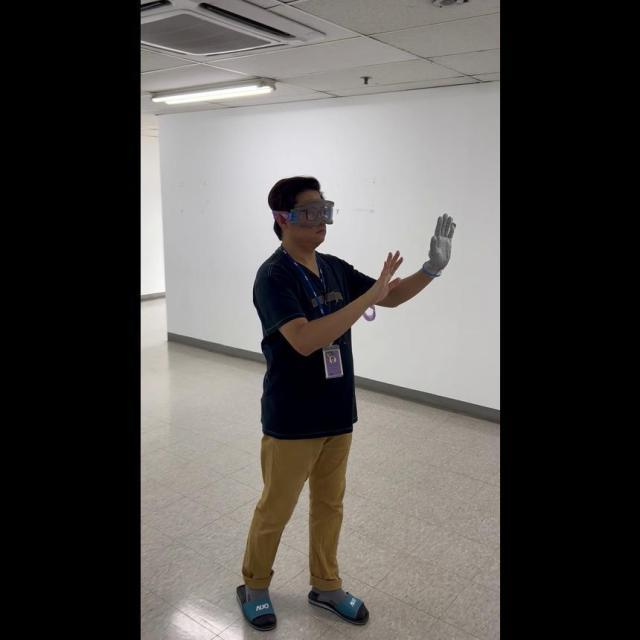bare_hand: (377, 246, 404, 291)
gloved_hand: (419, 208, 455, 277)
